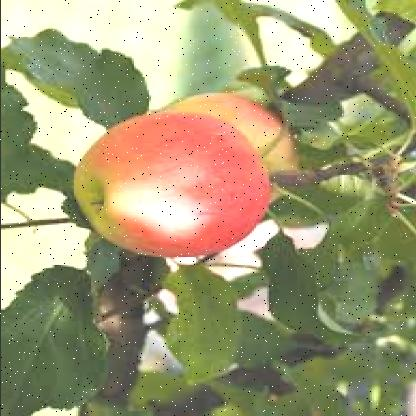apple: (71, 116, 266, 258), (159, 93, 296, 198)
